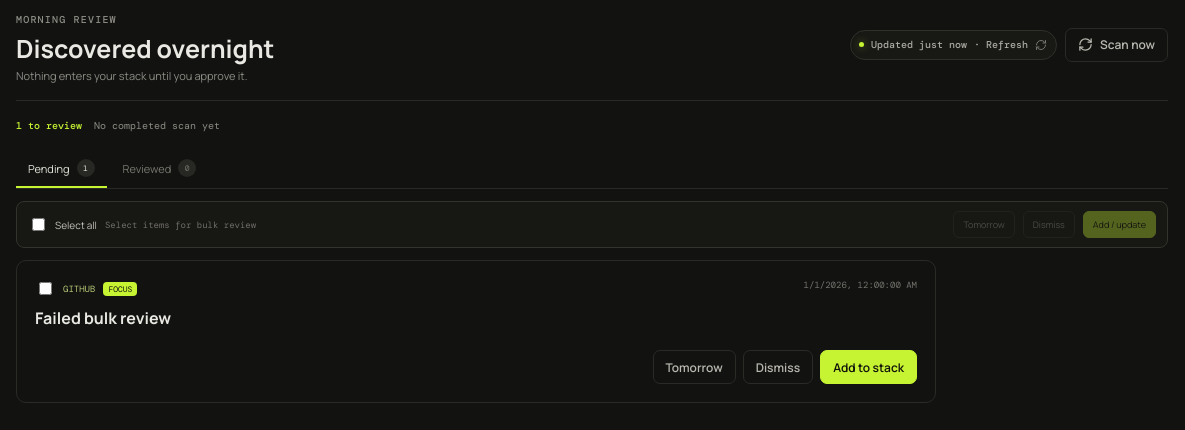
Test: DiscoveryInboxView bulk review failures › renders an error when bulk Tomorrow fails
Step 1. Click the checkbox labelled "github Focus" → (46, 288), box x1=39 y1=282 x2=52 y2=295
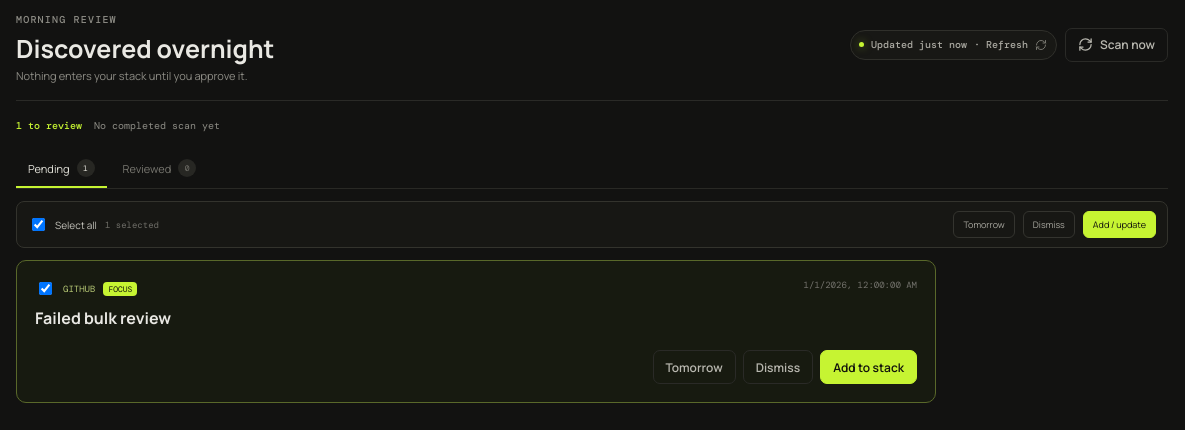
Step 2. Click the button "Tomorrow" in the row of "1 selected" → (984, 224), box x1=953 y1=211 x2=1015 y2=238
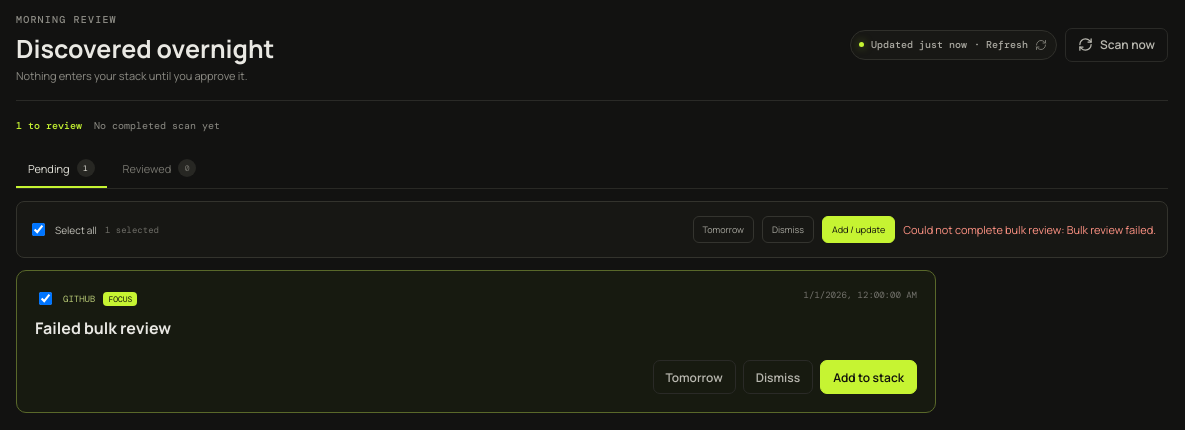
Now the checkbox labelled "github Focus" is checked, box x1=39 y1=292 x2=52 y2=305
Now the message reads "Could not complete bulk review: Bulk review failed.", box x1=903 y1=222 x2=1156 y2=237
